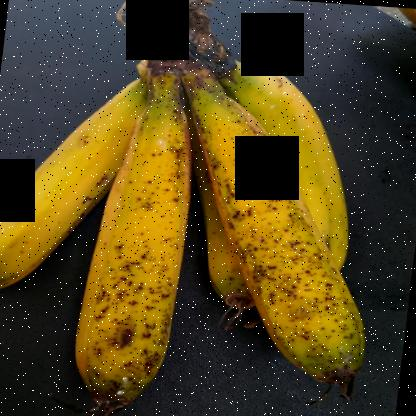freshripe: (0, 87, 130, 292)
ripe: (192, 89, 371, 400), (59, 101, 194, 415)
